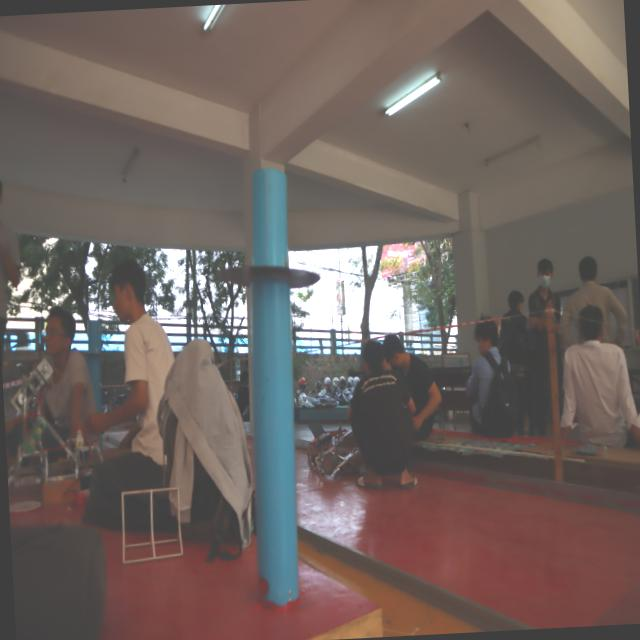pole: (211, 160, 330, 387)
